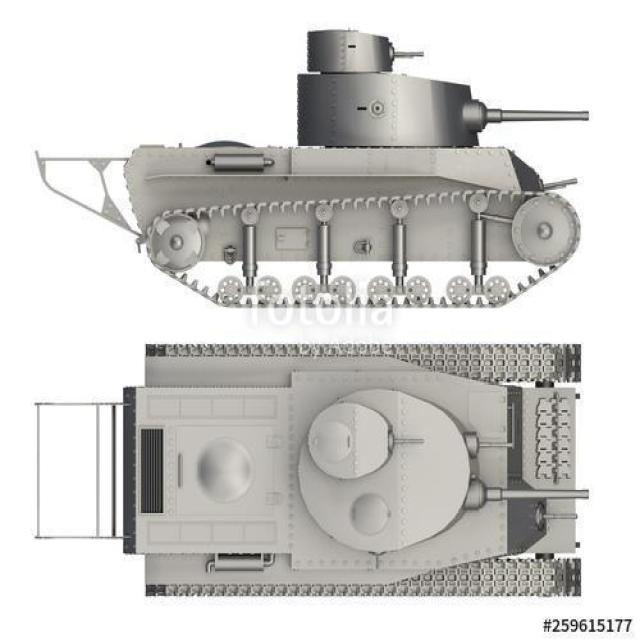Tanks: (37, 24, 583, 308), (118, 329, 574, 608)
